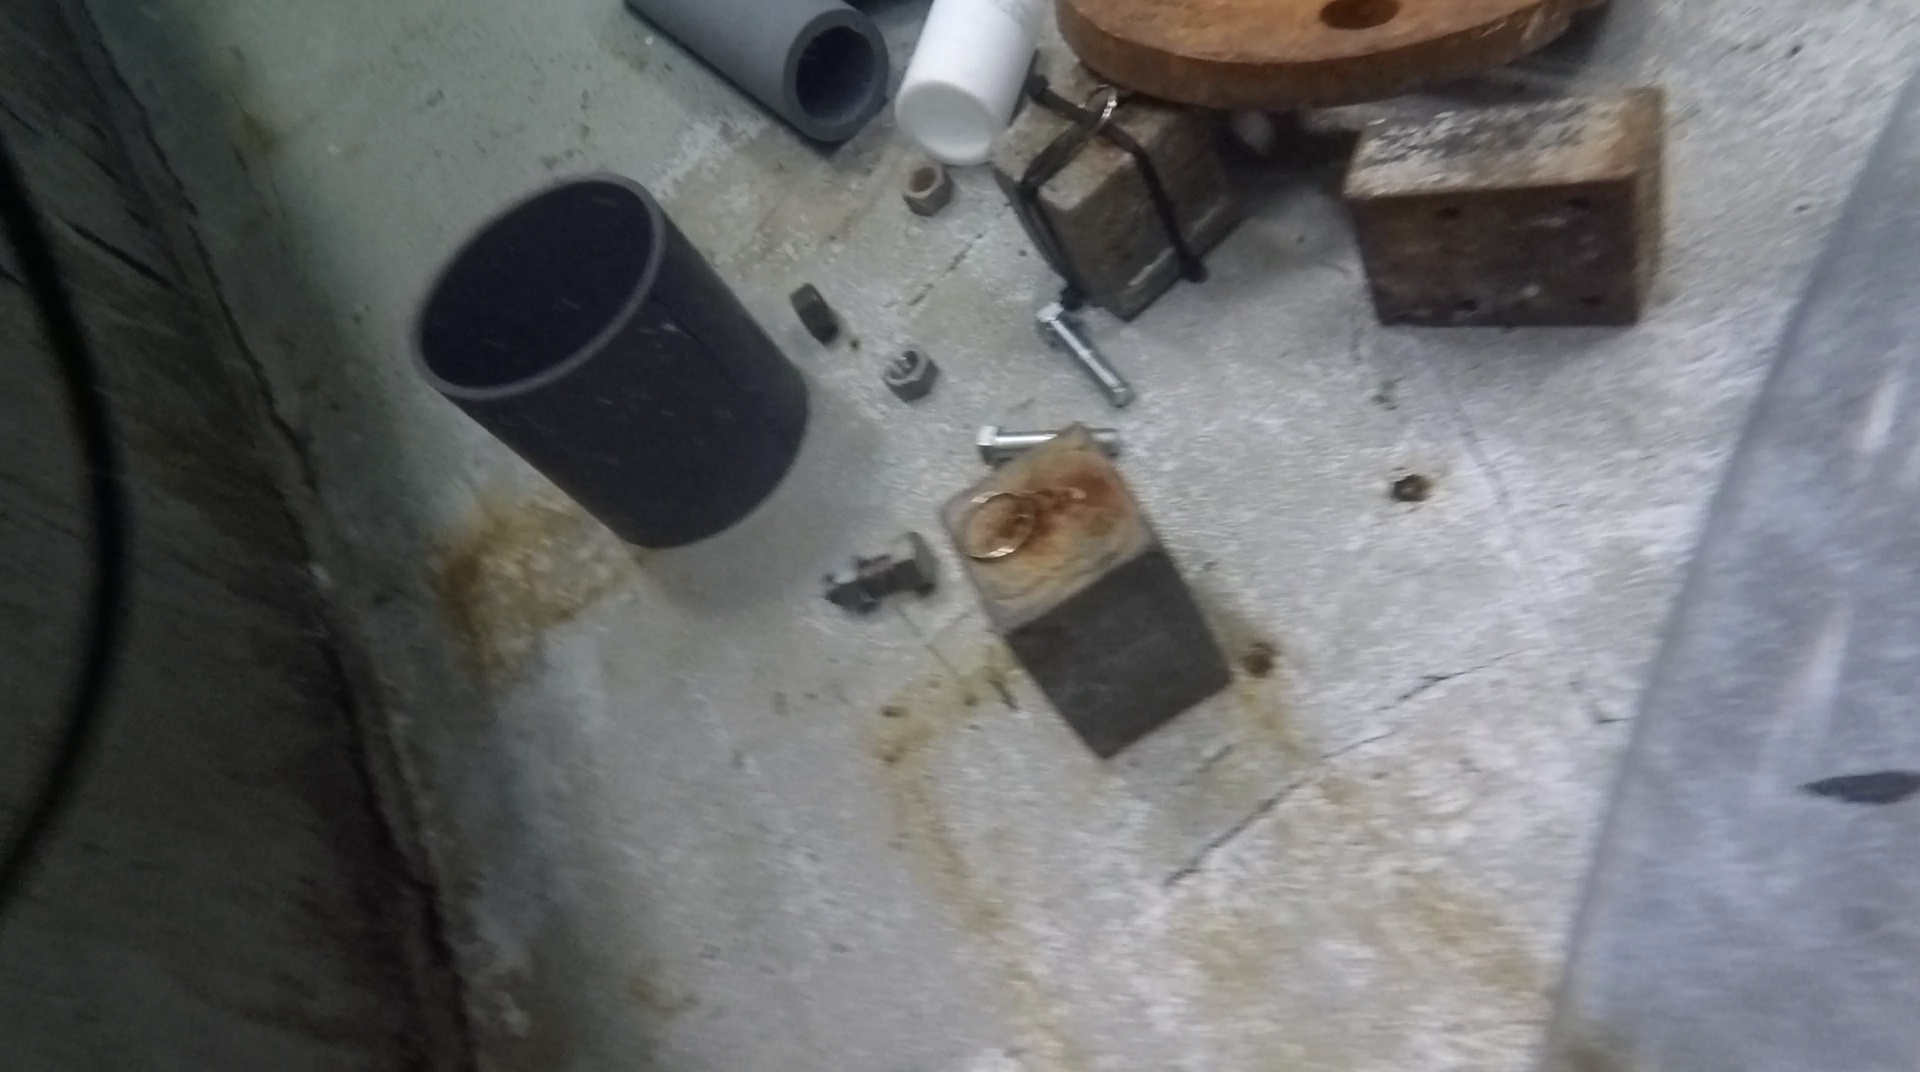bolt: (1034, 301, 1134, 407), (822, 530, 934, 603), (975, 425, 1122, 464)
led_block: (934, 418, 1232, 761), (1341, 79, 1665, 327), (985, 65, 1241, 319)
nut: (880, 343, 939, 401), (787, 283, 839, 345), (901, 164, 956, 216), (831, 554, 878, 614)
pipe: (407, 169, 808, 547), (622, 1, 890, 142), (894, 1, 1044, 166)
